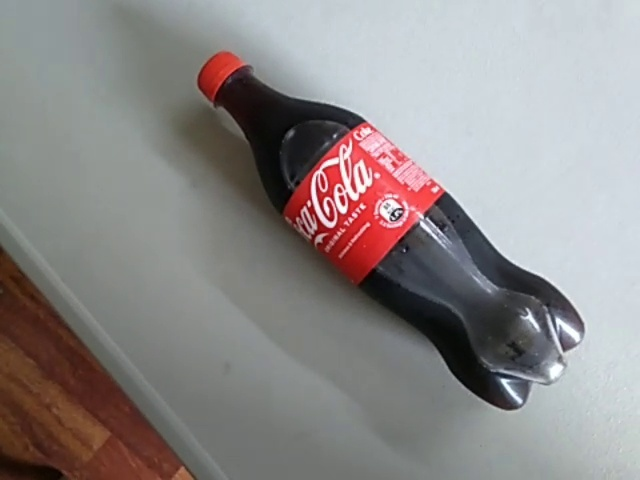Cocacola: (178, 43, 583, 422)
